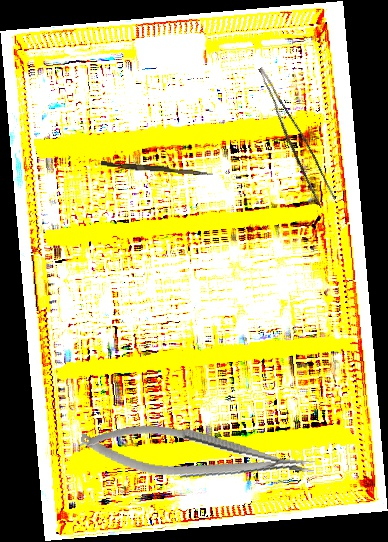Needle Holder: (77, 411, 318, 501)
Pusher: (100, 161, 214, 176)
Tissue Forceps: (242, 66, 341, 209)
